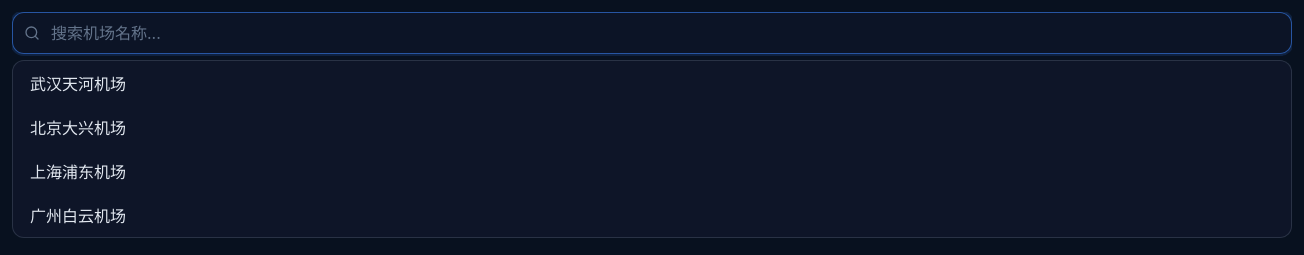
Test: AirportSearchSelect › filters airports by name (fuzzy match)
In the field with class "airport-search-select__input": (652, 33) [12,12,1292,54], type "武汉"
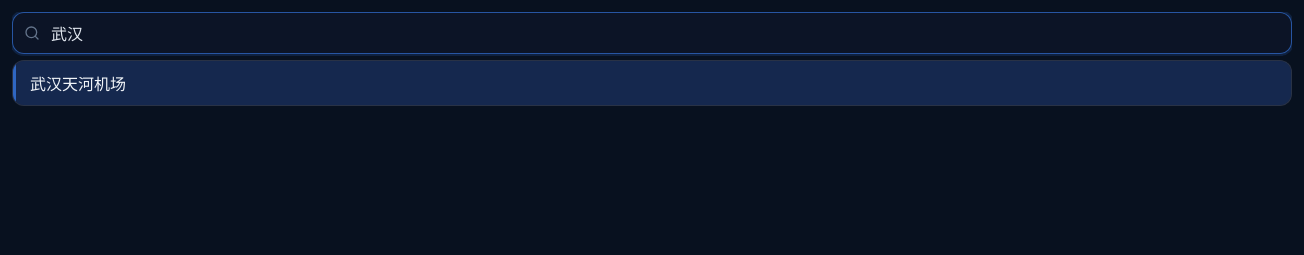
Expected: the option with class "airport-search-select__option" reads "武汉天河机场", [13,61,1291,105]
Now the number of options with class "airport-search-select__option" is 1, box [13,61,1291,105]
